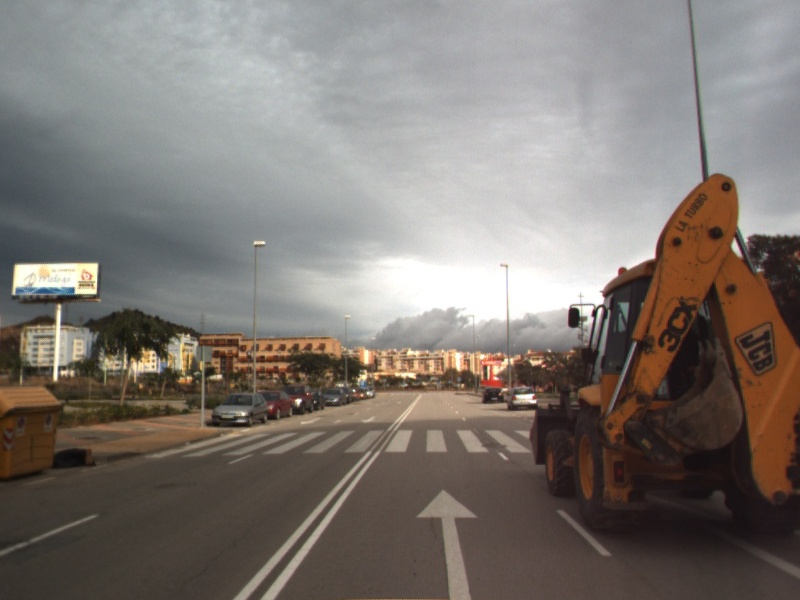STRAIGHT: (641, 490, 800, 579), (413, 485, 481, 600)
